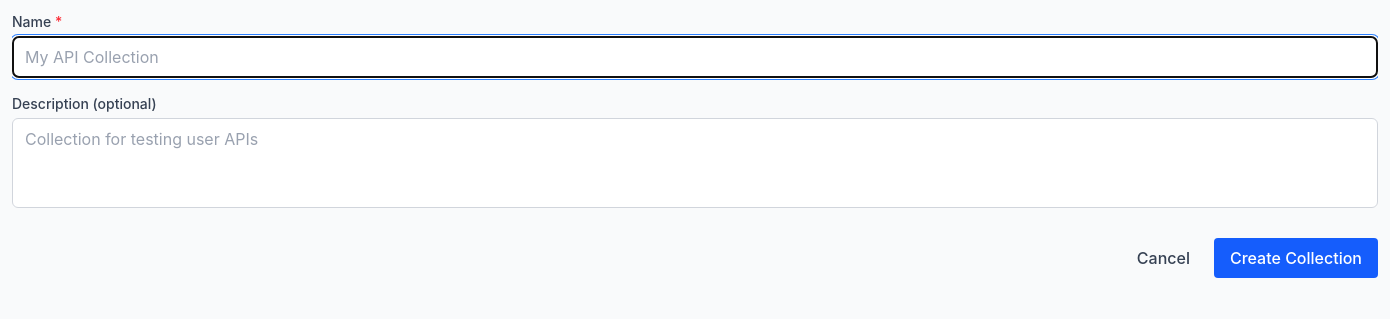
Scenario: NewCollectionForm › shows validation error for empty name on submit
Click the button "Create Collection".
click(1296, 258)  # box [1214, 238, 1378, 278]
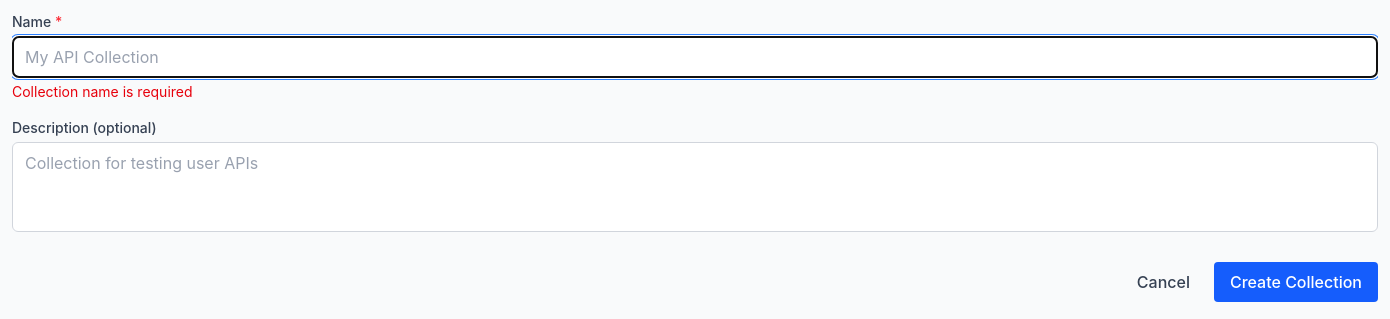
Expected: the text "Collection name is required" is shown, [12, 83, 193, 100]
